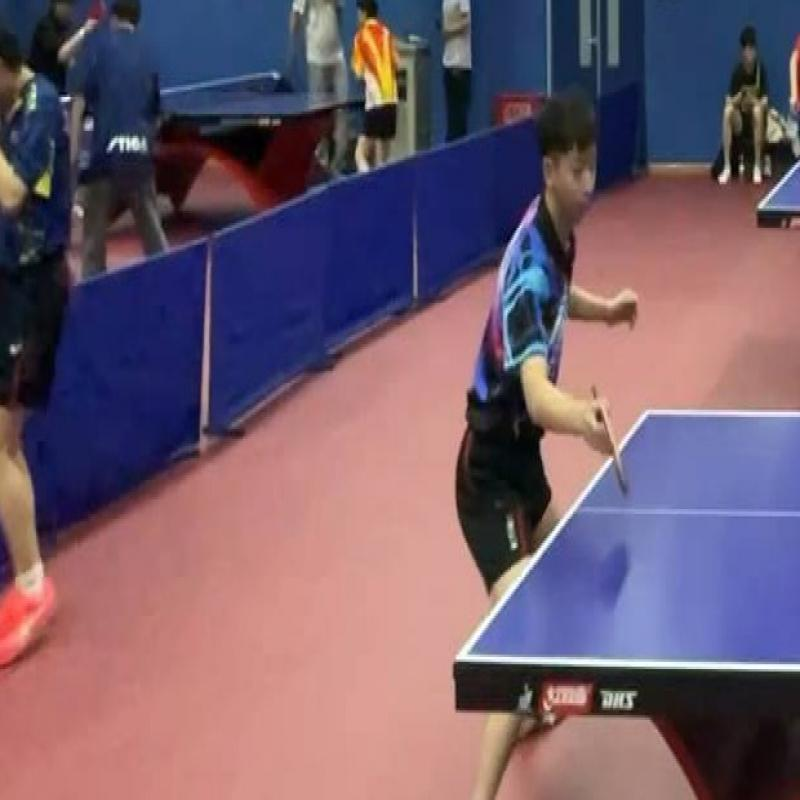bats: (588, 373, 635, 502)
